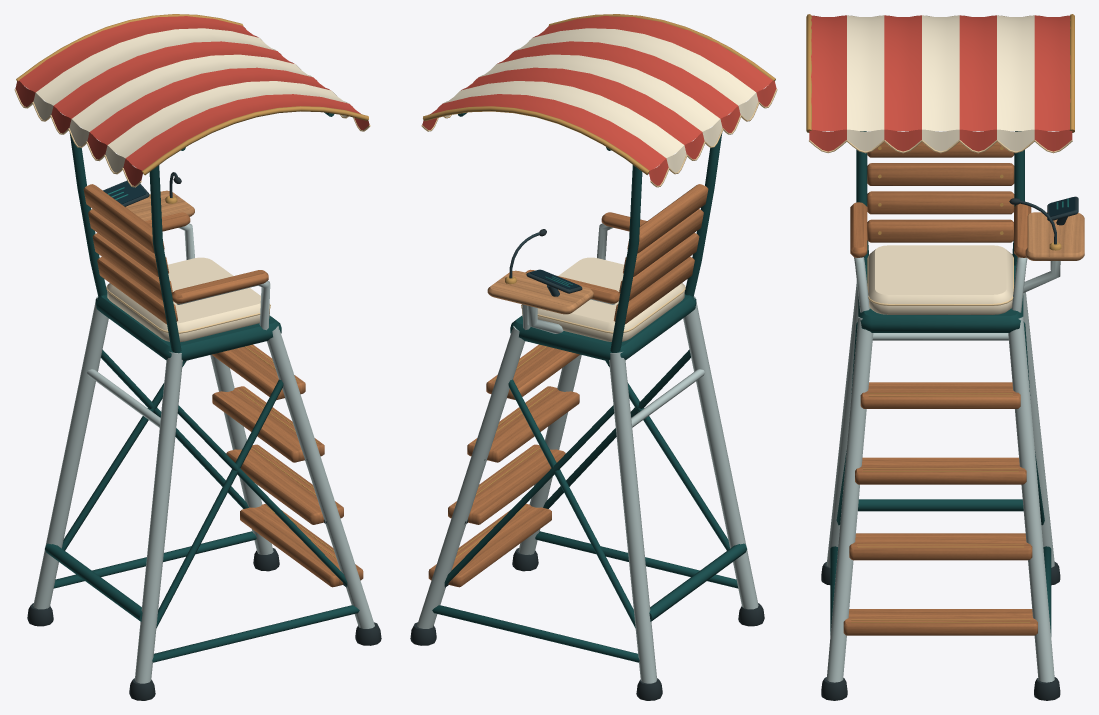
The model's file is umpire_chair.glb.
3 renders of one model, left to right at view 1: azimuth 30°, elevation 25°; view 2: azimuth 150°, elevation 25°; view 3: azimuth 270°, elevation 25°, orthographic. The views are drawn at different scales.
Visible parts, largest first — view 1: umpire_chair_Teak, umpire_chair_Silver, umpire_chair_Deep_Jade, umpire_chair_Cloth_Coral, umpire_chair_Cloth_Cream, Umpire_Seat, umpire_chair_Brass, umpire_chair_Rubber, umpire_chair_Cedar, umpire_chair_Piping; view 2: umpire_chair_Silver, umpire_chair_Teak, umpire_chair_Deep_Jade, umpire_chair_Cloth_Coral, umpire_chair_Cloth_Cream, Umpire_Seat, umpire_chair_Brass, umpire_chair_Cedar, umpire_chair_Rubber, umpire_chair_Piping, umpire_chair_Graphite; view 3: umpire_chair_Teak, umpire_chair_Cloth_Coral, umpire_chair_Silver, umpire_chair_Cloth_Cream, Umpire_Seat, umpire_chair_Deep_Jade, umpire_chair_Brass, umpire_chair_Cedar, umpire_chair_Rubber, umpire_chair_Piping, umpire_chair_Graphite.
Boxes of the visible parts, x1,y1,x2,y2 form: umpire_chair_Teak: (83, 184, 363, 587); umpire_chair_Silver: (33, 223, 374, 683); umpire_chair_Deep_Jade: (45, 112, 359, 662); umpire_chair_Cloth_Coral: (15, 16, 369, 185); umpire_chair_Cloth_Cream: (33, 28, 348, 172); Umpire_Seat: (107, 257, 269, 342); umpire_chair_Brass: (16, 14, 368, 567); umpire_chair_Rubber: (27, 176, 381, 700); umpire_chair_Cedar: (91, 190, 194, 220); umpire_chair_Piping: (14, 89, 370, 333); umpire_chair_Silver: (417, 223, 758, 683); umpire_chair_Teak: (428, 184, 708, 587); umpire_chair_Deep_Jade: (432, 112, 746, 662); umpire_chair_Cloth_Coral: (422, 16, 776, 185); umpire_chair_Cloth_Cream: (443, 28, 758, 172); Umpire_Seat: (522, 257, 684, 341); umpire_chair_Brass: (423, 14, 775, 567); umpire_chair_Cedar: (487, 270, 593, 314); umpire_chair_Rubber: (410, 229, 764, 700); umpire_chair_Piping: (421, 89, 777, 333); umpire_chair_Graphite: (445, 232, 582, 587); umpire_chair_Teak: (843, 142, 1037, 635); umpire_chair_Cloth_Coral: (809, 15, 1072, 151); umpire_chair_Silver: (826, 257, 1060, 682); umpire_chair_Cloth_Cream: (847, 15, 1034, 151); Umpire_Seat: (868, 245, 1012, 314); umpire_chair_Deep_Jade: (830, 131, 1051, 636); umpire_chair_Brass: (806, 14, 1074, 622); umpire_chair_Cedar: (1025, 212, 1084, 260); umpire_chair_Rubber: (821, 198, 1060, 700); umpire_chair_Piping: (809, 140, 1072, 305); umpire_chair_Graphite: (1019, 196, 1078, 244).
Size of the model in its own units: 1.27 by 2.74 by 1.16.
13 materials, 2 textured.
